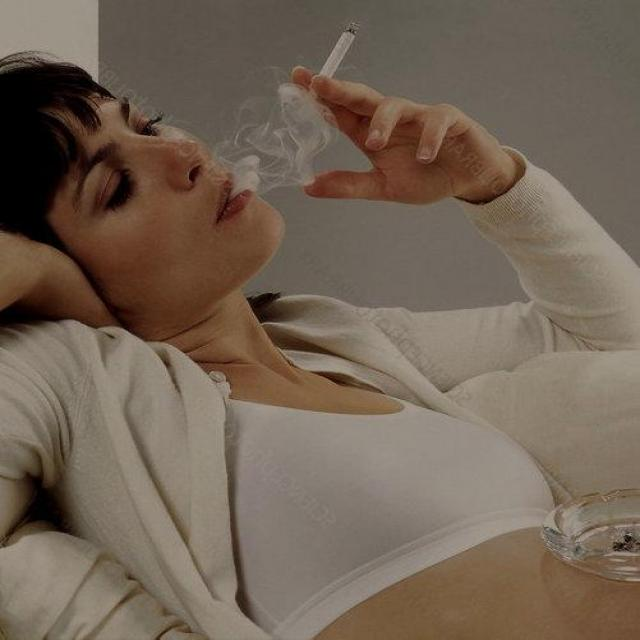cigarette: (257, 16, 369, 177)
